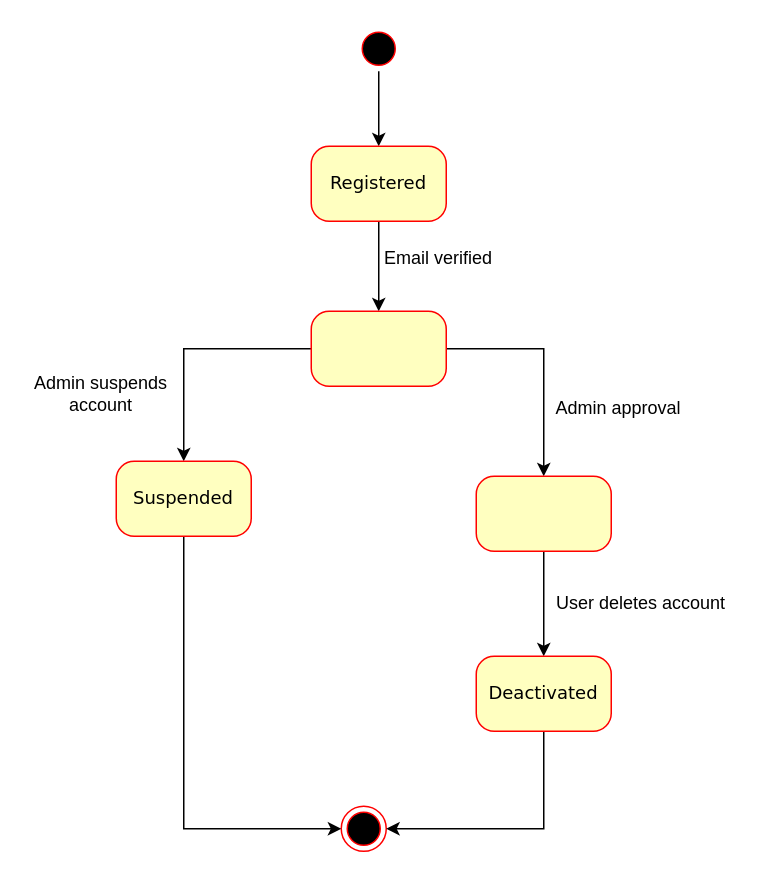
Some shapes in this 771 by 878 pixel diagram are drawn without their labels. The shapes that lost their labels are listed below. From the top down, each one's box as (x1, y1, x2, y2) in pixels, then its label:
(310, 310, 446, 386): Verified
(475, 475, 611, 551): Active
